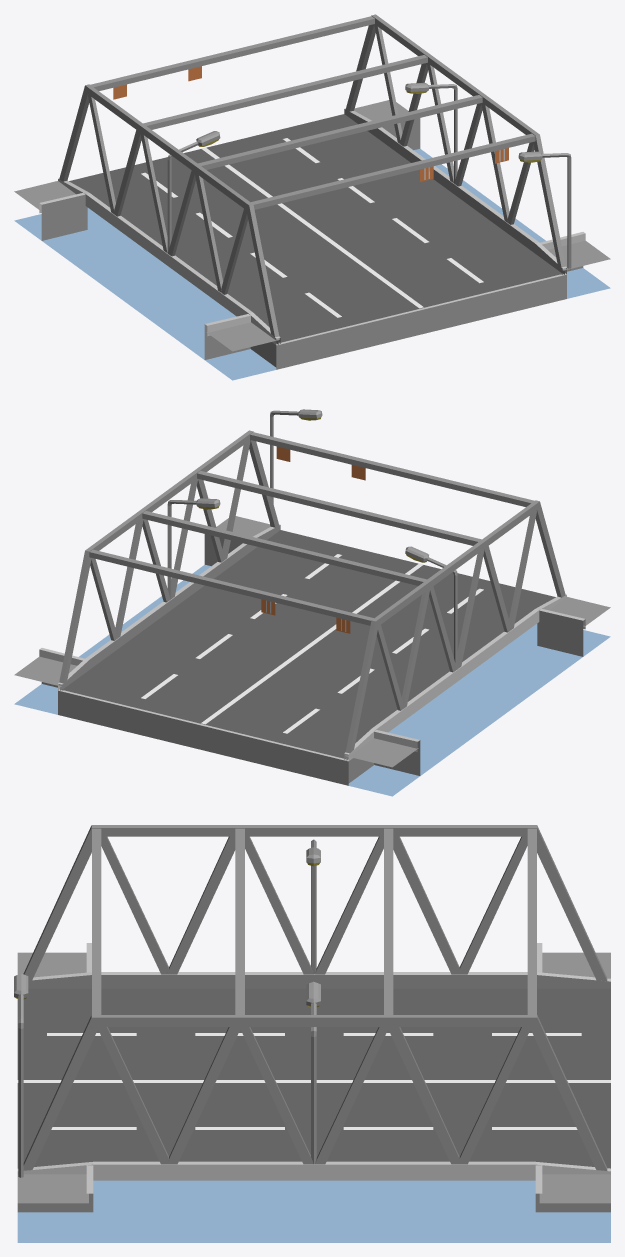
Rendered from road_tile_bridge_2x2_006.fbx.
3 views of the same model, one above another, from view 1: azimuth 30°, elevation 25°; view 2: azimuth 150°, elevation 25°; view 3: azimuth 270°, elevation 25° (orthographic). The views are drawn at different scales.
Parts seen in each view (by area): view 1: road_tile_bridge_2x2_006; view 2: road_tile_bridge_2x2_006; view 3: road_tile_bridge_2x2_006.
Boxes of the visible parts, <box> form: road_tile_bridge_2x2_006: <box>14,14,610,380</box>; road_tile_bridge_2x2_006: <box>14,409,610,796</box>; road_tile_bridge_2x2_006: <box>14,825,610,1242</box>.
Size of the model in its own units: 1600 by 629 by 1610.
